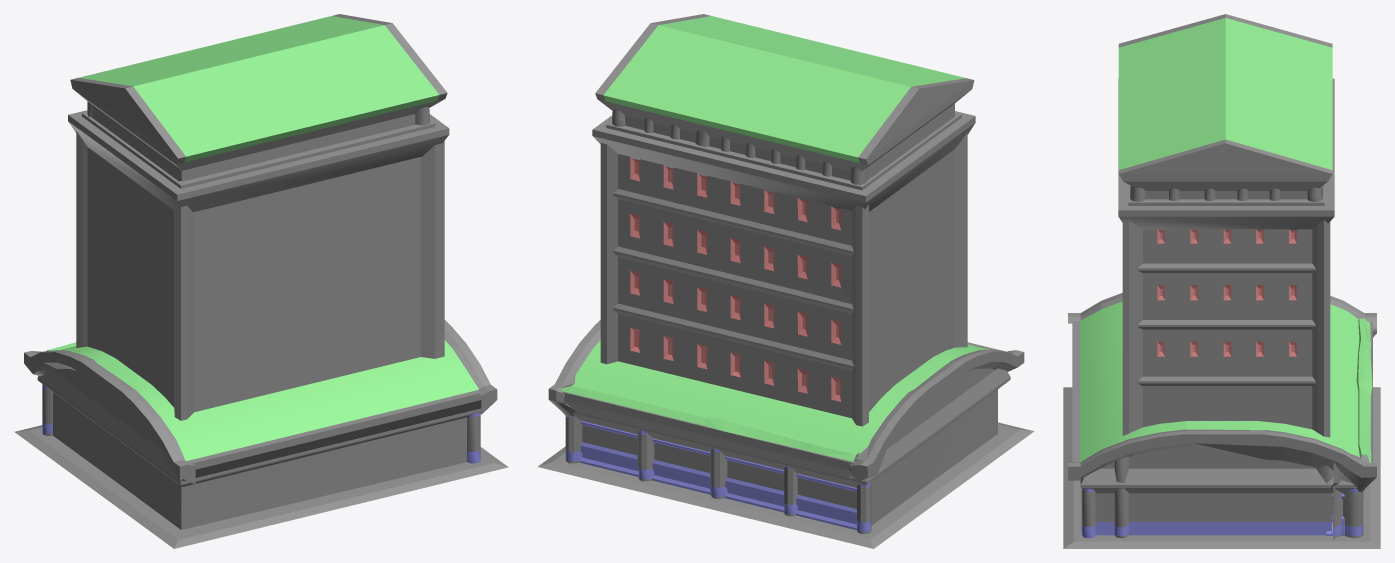
Rendered from COL_SM_ENV_KNVLLG03_AreaA_Building_A.gltf.
3 views of the same model, side by side, from view 1: azimuth 30°, elevation 25°; view 2: azimuth 150°, elevation 25°; view 3: azimuth 270°, elevation 25° (orthographic).
Visible parts, largest first — view 1: COL_SM_ENV_KNVLLG03_AreaA_Building_A; view 2: COL_SM_ENV_KNVLLG03_AreaA_Building_A; view 3: COL_SM_ENV_KNVLLG03_AreaA_Building_A.
Boxes of the visible parts, box(x1,y1,x2,y2) form: COL_SM_ENV_KNVLLG03_AreaA_Building_A: box(14, 14, 508, 548); COL_SM_ENV_KNVLLG03_AreaA_Building_A: box(538, 14, 1033, 548); COL_SM_ENV_KNVLLG03_AreaA_Building_A: box(1063, 14, 1380, 548).
Bounding box in the file's own units: 36.94 × 41.41 × 30.58.
